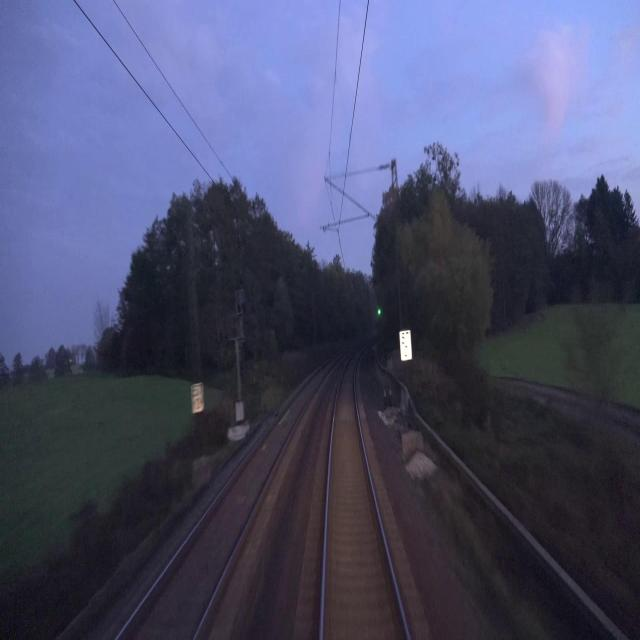rail-track: (120, 360, 334, 639), (325, 349, 405, 639)
